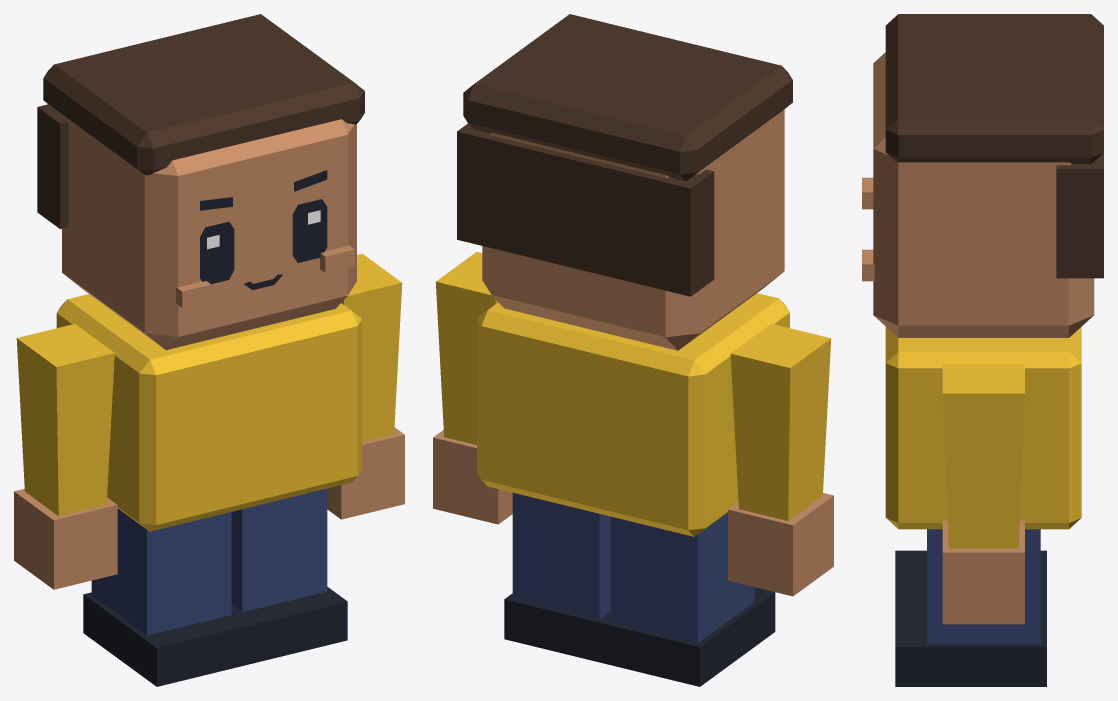
Rendered from townsperson-round.glb.
The picture shows the model from 3 angles, left to right: view 1: azimuth 30°, elevation 25°; view 2: azimuth 150°, elevation 25°; view 3: azimuth 270°, elevation 25°; orthographic projection. The views are drawn at different scales.
Visible parts, largest first — view 1: body, head, hair, arm_R, leg_R, leg_L, shoe_R, hand_R, arm_L, face, shoe_L, hand_L; view 2: hair, body, head, arm_R, leg_R, leg_L, hand_R, shoe_R, arm_L, hand_L, shoe_L; view 3: hair, head, body, arm_L, shoe_L, hand_L, leg_L, shoe_R, face.
Boxes of the visible parts, left/top/right/bottom form: body: left=56, top=294, right=362, bottom=531; head: left=62, top=115, right=356, bottom=350; hair: left=37, top=14, right=364, bottom=228; arm_R: left=16, top=324, right=114, bottom=516; leg_R: left=91, top=508, right=231, bottom=635; leg_L: left=231, top=488, right=327, bottom=612; shoe_R: left=83, top=592, right=252, bottom=686; hand_R: left=14, top=489, right=117, bottom=589; arm_L: left=341, top=253, right=402, bottom=441; face: left=176, top=170, right=354, bottom=307; shoe_L: left=231, top=587, right=347, bottom=663; hand_L: left=327, top=427, right=404, bottom=519; hair: left=457, top=14, right=792, bottom=296; body: left=477, top=293, right=789, bottom=536; head: left=482, top=109, right=784, bottom=350; arm_R: left=730, top=323, right=831, bottom=520; leg_R: left=610, top=512, right=754, bottom=643; leg_L: left=512, top=493, right=610, bottom=619; hand_R: left=728, top=493, right=833, bottom=596; shoe_R: left=602, top=587, right=775, bottom=686; arm_L: left=435, top=252, right=497, bottom=444; hand_L: left=433, top=430, right=512, bottom=524; shoe_L: left=504, top=593, right=610, bottom=662; hair: left=885, top=14, right=1103, bottom=278; head: left=873, top=52, right=1094, bottom=337; body: left=885, top=327, right=1081, bottom=529; arm_L: left=942, top=364, right=1024, bottom=548; shoe_L: left=895, top=598, right=1046, bottom=686; hand_L: left=942, top=520, right=1024, bottom=624; leg_L: left=927, top=529, right=1040, bottom=644; shoe_R: left=895, top=550, right=1046, bottom=598; face: left=862, top=177, right=874, bottom=281.
Bounding box in the file's own units: 1.32 × 2 × 0.765.
